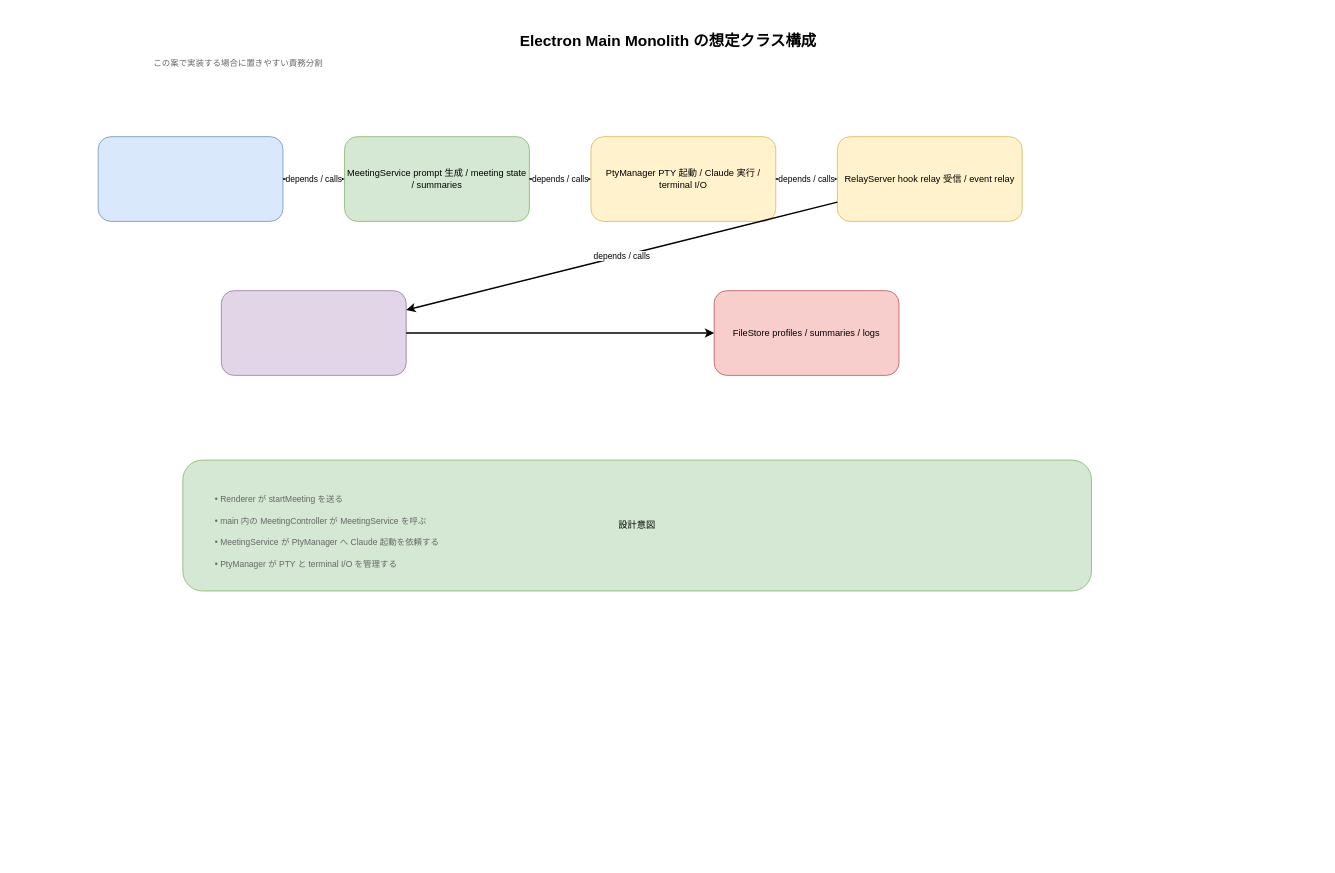
Some shapes in this 1335 by 873 pixel diagram are drawn without their labels. The centre of each missing label's shape, as x and y in pixels:
"MeetingController 会議開始 / 停止 / control prompt" goes at point (190, 178).
"RendererBridge IPC 経由で UI と接続" goes at point (313, 332).
